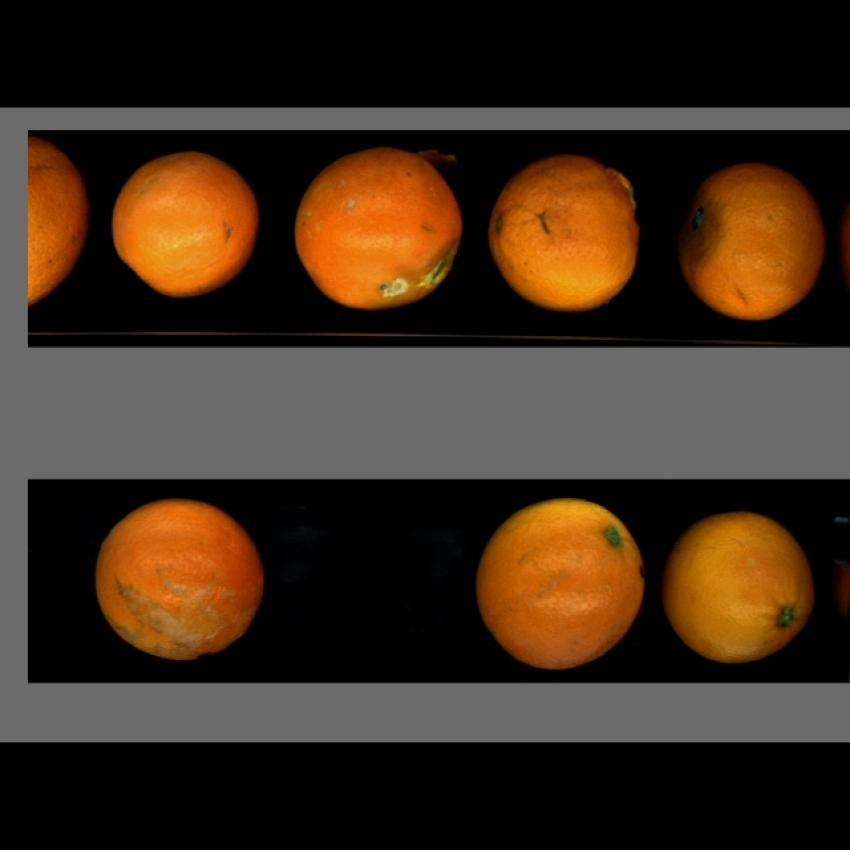Buen estado: (472, 499, 645, 670), (109, 141, 256, 304), (28, 135, 87, 306)
Mal estado: (290, 146, 472, 313), (94, 500, 268, 663), (486, 154, 648, 314), (659, 506, 815, 660), (675, 161, 826, 320)
